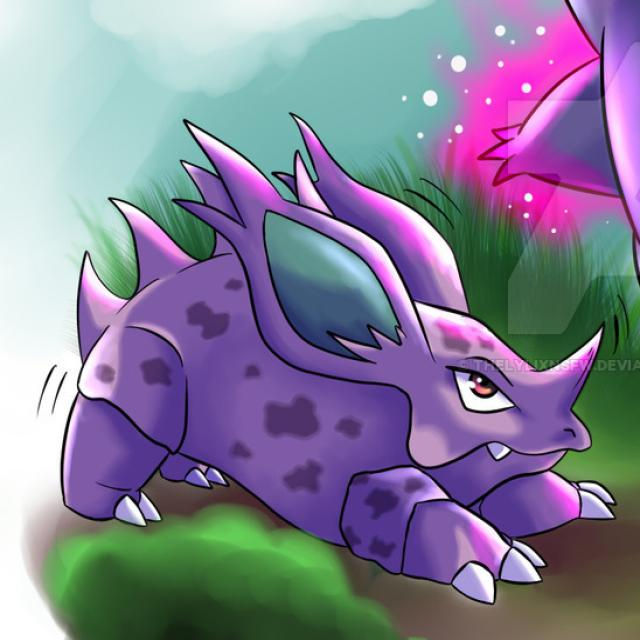Nidorino: (44, 107, 621, 607)
